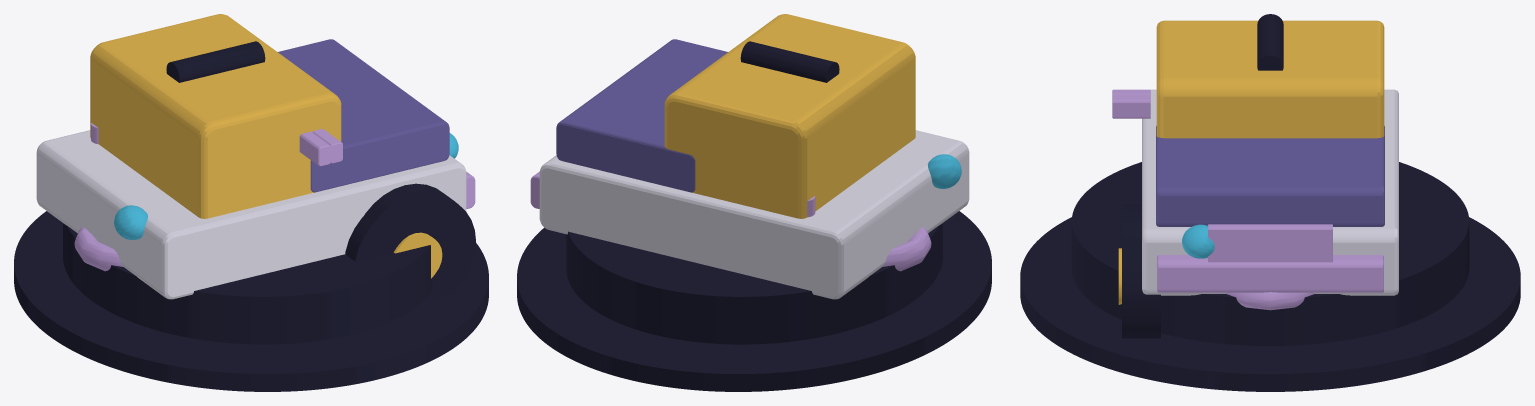
The model's file is 0367_航空航天图鉴_发射塔.glb.
3 renders of one model, left to right at view 1: azimuth 30°, elevation 25°; view 2: azimuth 150°, elevation 25°; view 3: azimuth 270°, elevation 25°, orthographic.
Visible parts, largest first — view 1: card_0367; view 2: card_0367; view 3: card_0367.
Boxes of the visible parts, <box> form: card_0367: <box>14,14,488,391</box>; card_0367: <box>517,14,991,391</box>; card_0367: <box>1020,14,1520,391</box>.
Bounding box in the file's own units: 1.73 × 1 × 1.87.
